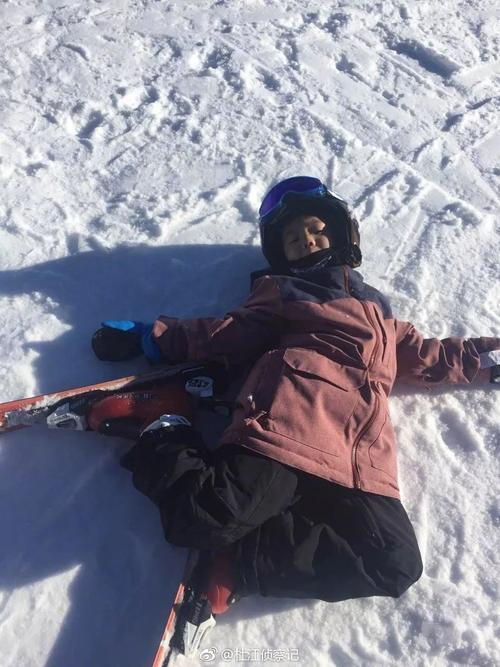Fall-Detected: (75, 168, 487, 639)
